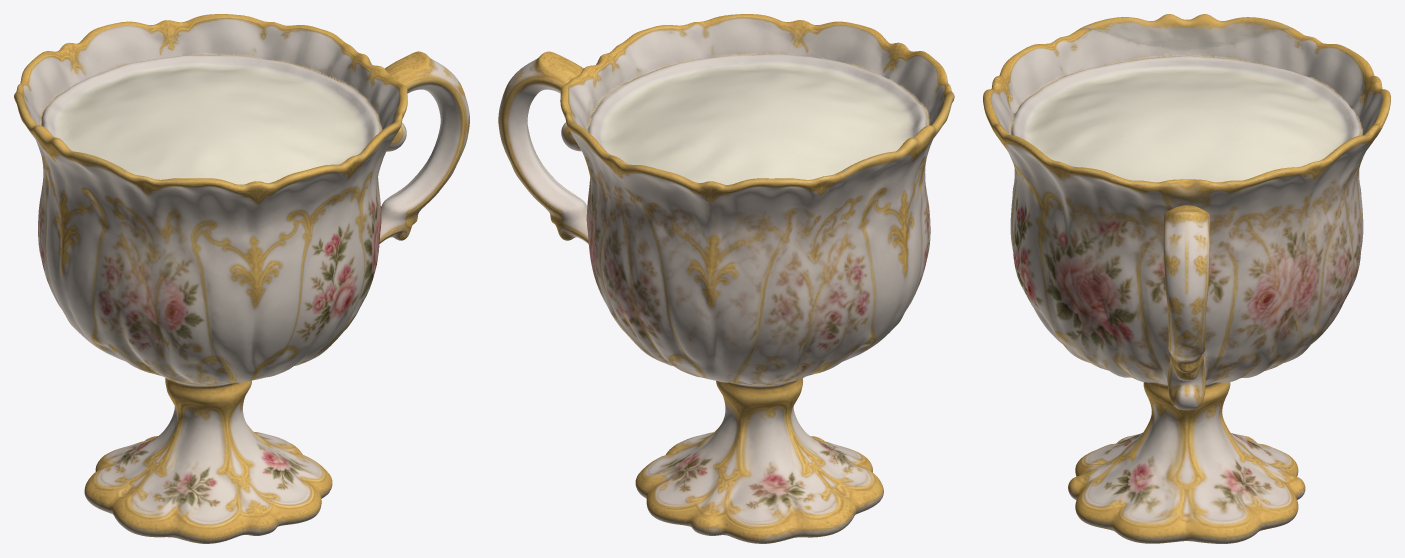
File: 63ac7632-ec4c-4ee4-a91b-6fce9237920d.glb
The picture shows the model from 3 angles, left to right: view 1: azimuth 30°, elevation 25°; view 2: azimuth 150°, elevation 25°; view 3: azimuth 270°, elevation 25°; orthographic projection.
Bounding box in the file's own units: 1.9 × 1.72 × 1.58.
1 material, 1 textured.
